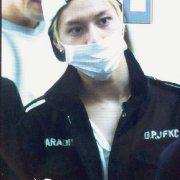WRONG: (62, 12, 127, 77)
